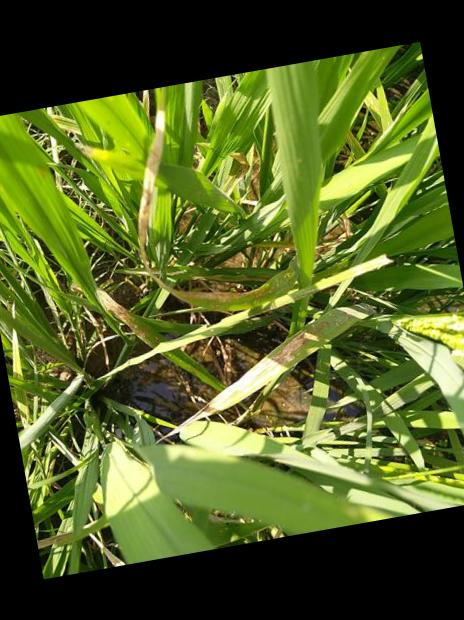Leaf Blight: (136, 110, 294, 301)
Leaf Streak: (158, 303, 375, 441), (95, 287, 163, 348)
